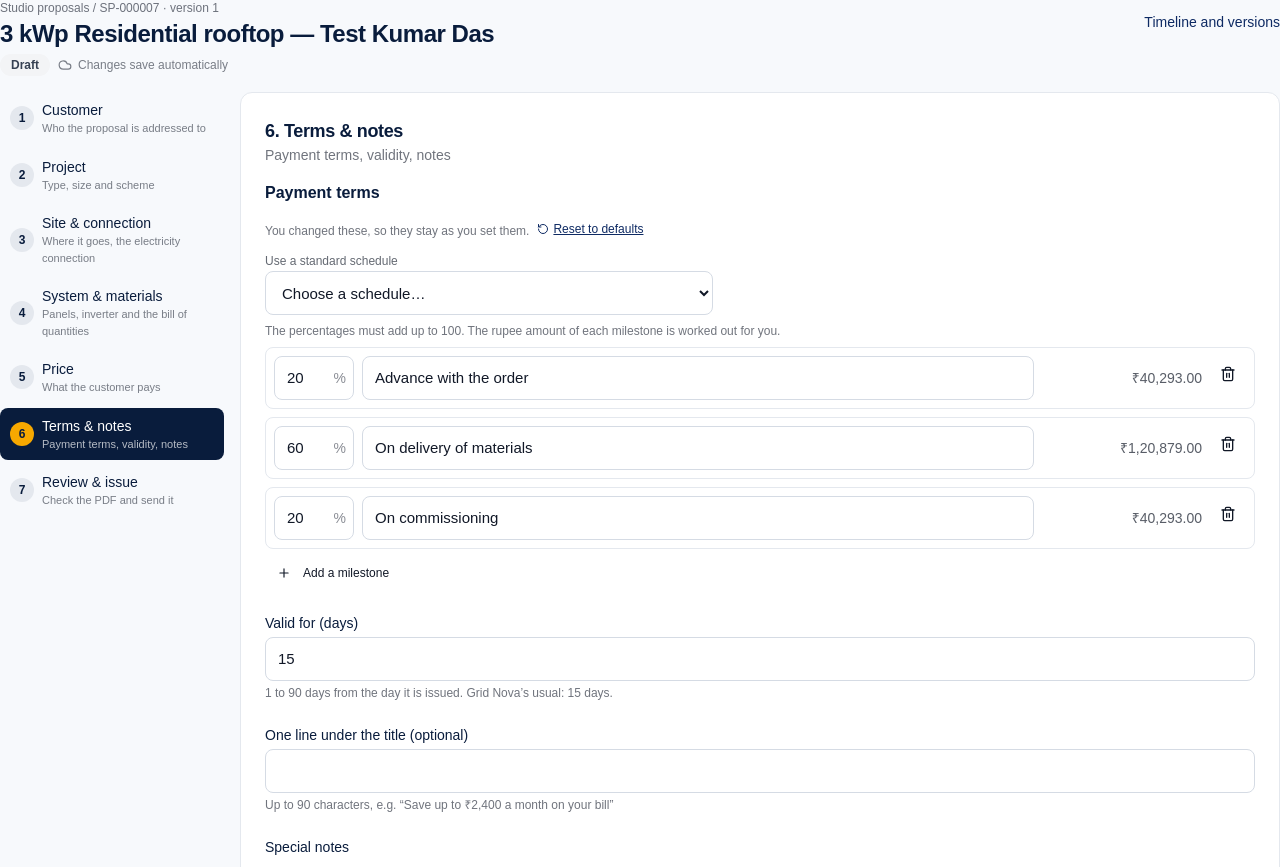
reset to defaults and payment-term presets › a section staff changed offers "Reset to defaults"; confirming posts the reset with the revision read
Expected: the list with test id "wizard-steps" is shown, [0,92,224,520]
Click the button with test id "reset-payment_terms" at (590, 229), box [537,213,644,245]
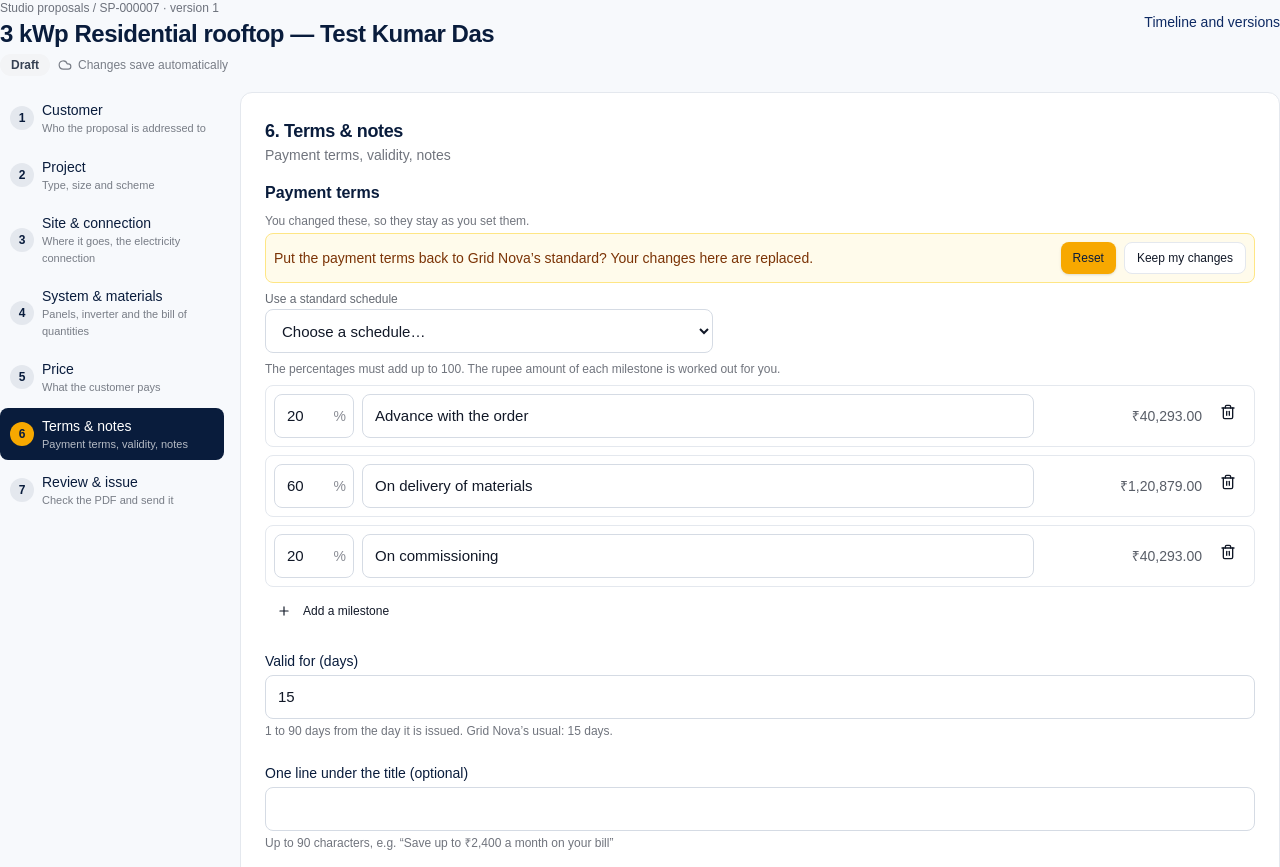
Expected: the dialog with test id "reset-confirm-payment_terms" shows "Put the payment terms back to Grid Nova’s standard?", [265,233,1255,283]
Click the button "Reset" at (1088, 258), box [1061,242,1116,274]
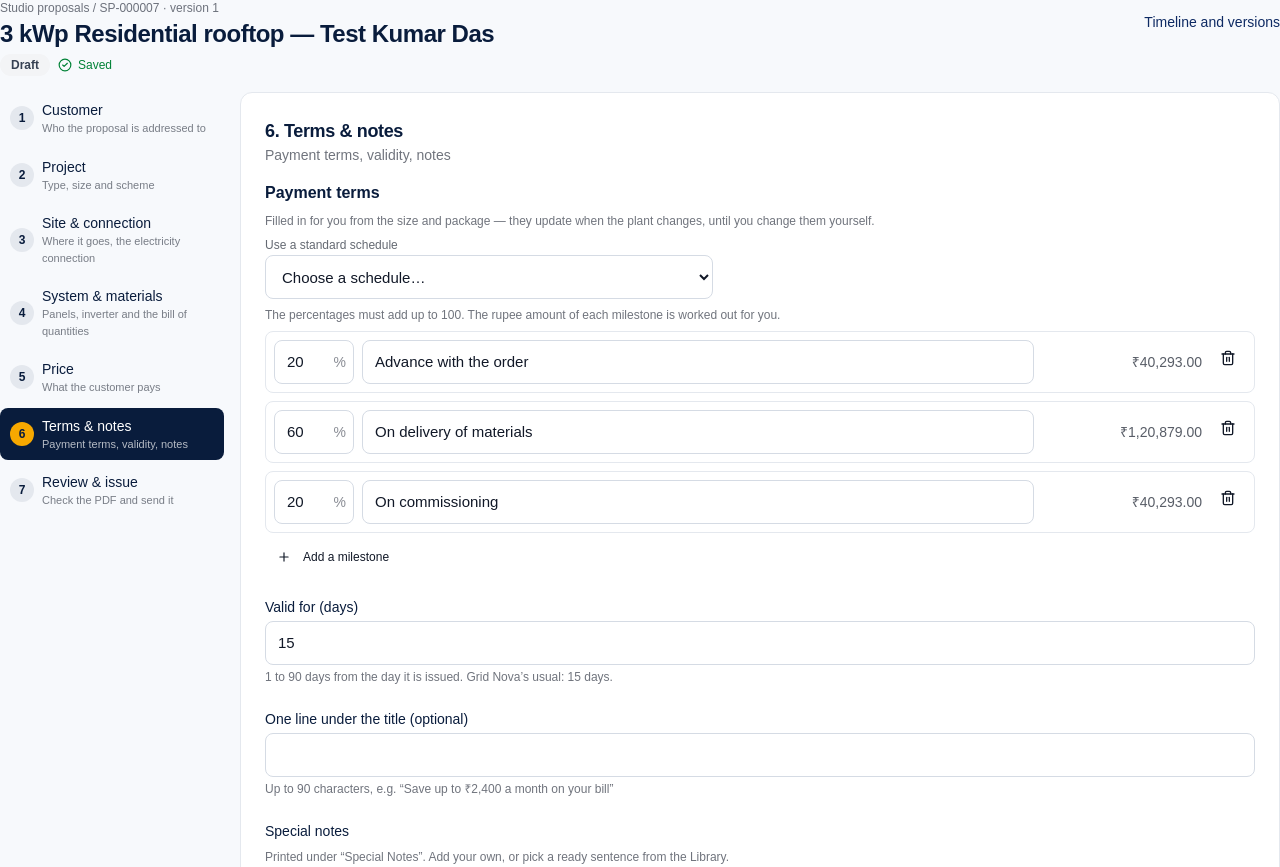
Expected: the text with test id "follows-payment_terms" shows "Filled in for you", [265,214,875,228]
